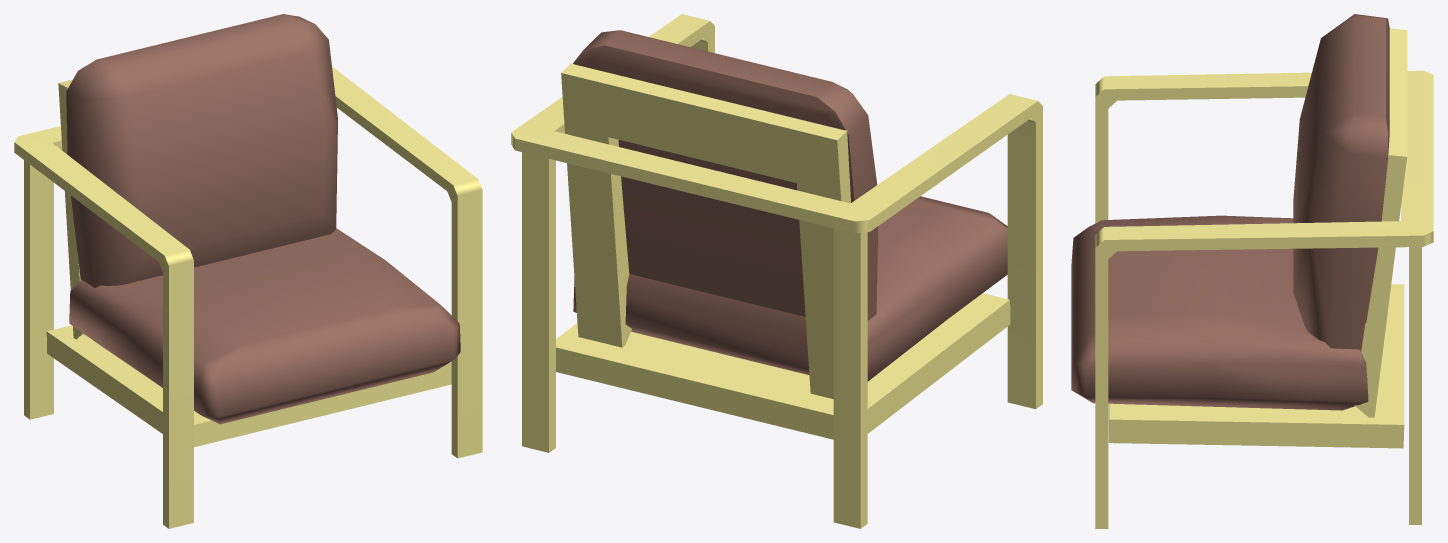
File: lounge_chair_016.glb
3 renders of one model, left to right at view 1: azimuth 30°, elevation 25°; view 2: azimuth 150°, elevation 25°; view 3: azimuth 270°, elevation 25°, orthographic. The views are drawn at different scales.
Visible parts, largest first — view 1: lounge_chair_016; view 2: lounge_chair_016; view 3: lounge_chair_016.
Boxes of the visible parts, left/top/right/bottom form: lounge_chair_016: left=14, top=14, right=482, bottom=528; lounge_chair_016: left=511, top=14, right=1042, bottom=528; lounge_chair_016: left=1071, top=14, right=1433, bottom=528.
Size of the model in its own units: 0.7202 by 0.7791 by 0.669.
Materials: 1 (1 with a texture image).
